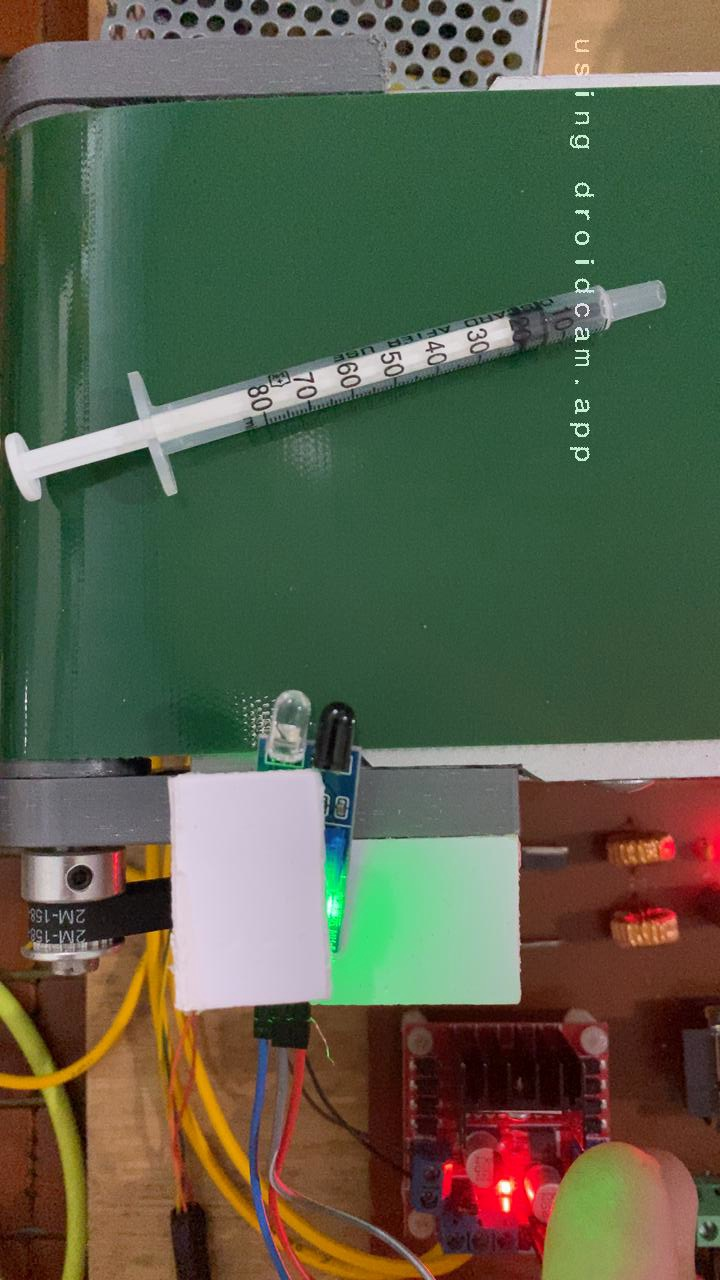syringe: (0, 276, 674, 510)
